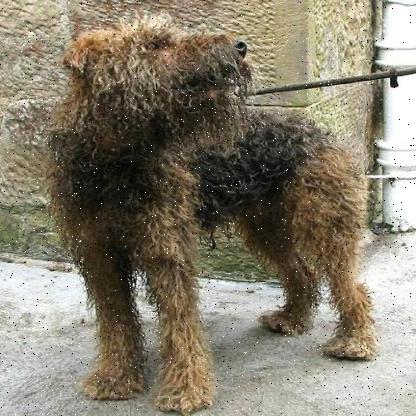dog: (51, 18, 384, 412)
